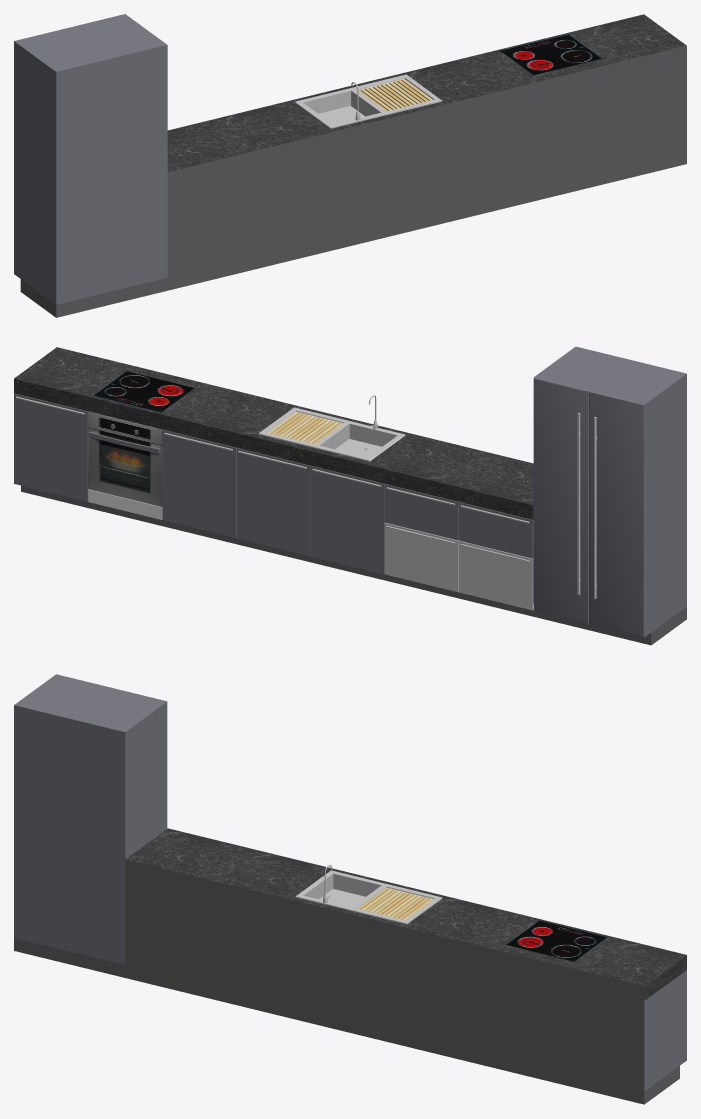
The model's file is Kitchen02.fbx.
3 renders of one model, top to bottom at view 1: azimuth 30°, elevation 25°; view 2: azimuth 150°, elevation 25°; view 3: azimuth 330°, elevation 25°, orthographic.
Visible parts, largest first — view 1: Baseboard_, Blue_Aluminum_, Countertop_, Metal_, Ceramic_hob_, Wood_Base_; view 2: Blue_Aluminum_, Countertop_, White_Aluminum_, Oven_, Metal_, Baseboard_, Ceramic_hob_, Wood_Base_; view 3: Baseboard_, Blue_Aluminum_, Countertop_, Metal_, Ceramic_hob_, Wood_Base_.
Boxes of the visible parts, x1=… form: Baseboard_: x1=20, y1=45, x2=686, y2=317; Blue_Aluminum_: x1=14, y1=14, x2=167, y2=304; Countertop_: x1=167, y1=14, x2=686, y2=171; Metal_: x1=295, y1=74, x2=441, y2=128; Ceramic_hob_: x1=499, y1=33, x2=603, y2=76; Wood_Base_: x1=358, y1=79, x2=432, y2=111; Blue_Aluminum_: x1=14, y1=346, x2=686, y2=637; Countertop_: x1=14, y1=347, x2=533, y2=519; White_Aluminum_: x1=384, y1=522, x2=533, y2=610; Oven_: x1=88, y1=411, x2=162, y2=519; Metal_: x1=16, y1=395, x2=597, y2=598; Baseboard_: x1=21, y1=485, x2=686, y2=645; Ceramic_hob_: x1=92, y1=370, x2=196, y2=412; Wood_Base_: x1=268, y1=412, x2=342, y2=444; Baseboard_: x1=14, y1=859, x2=679, y2=1104; Blue_Aluminum_: x1=14, y1=674, x2=686, y2=1091; Countertop_: x1=125, y1=828, x2=686, y2=1000; Metal_: x1=295, y1=864, x2=442, y2=924; Ceramic_hob_: x1=504, y1=920, x2=608, y2=962; Wood_Base_: x1=358, y1=887, x2=433, y2=920.
Bounding box in the file's own units: 5.1 × 1.9 × 0.6281.
